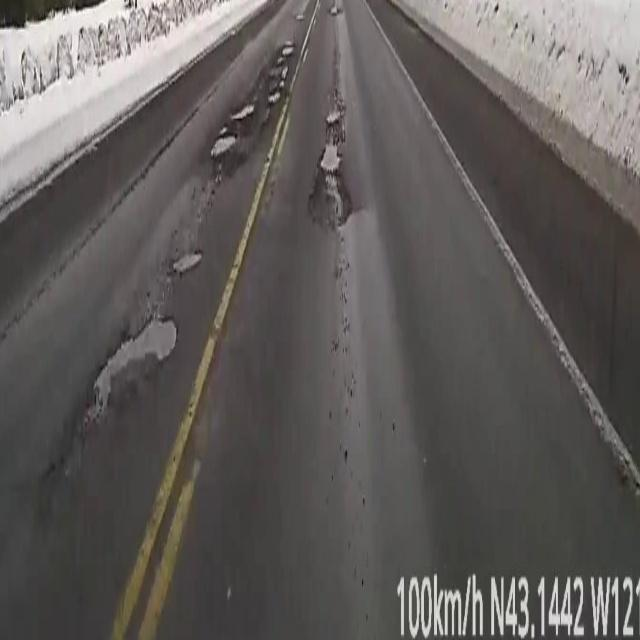pothole: (84, 313, 177, 430), (309, 84, 352, 226), (211, 104, 254, 168), (262, 40, 294, 110), (172, 248, 202, 274)
